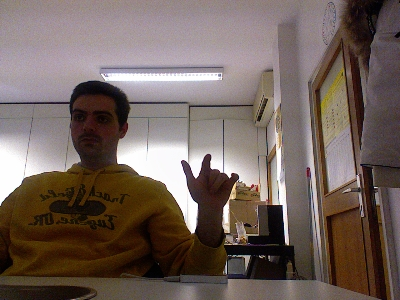我爱你: (179, 153, 241, 207)
